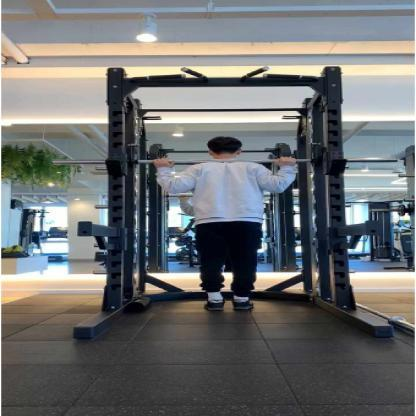smith machine: (70, 65, 401, 342)
